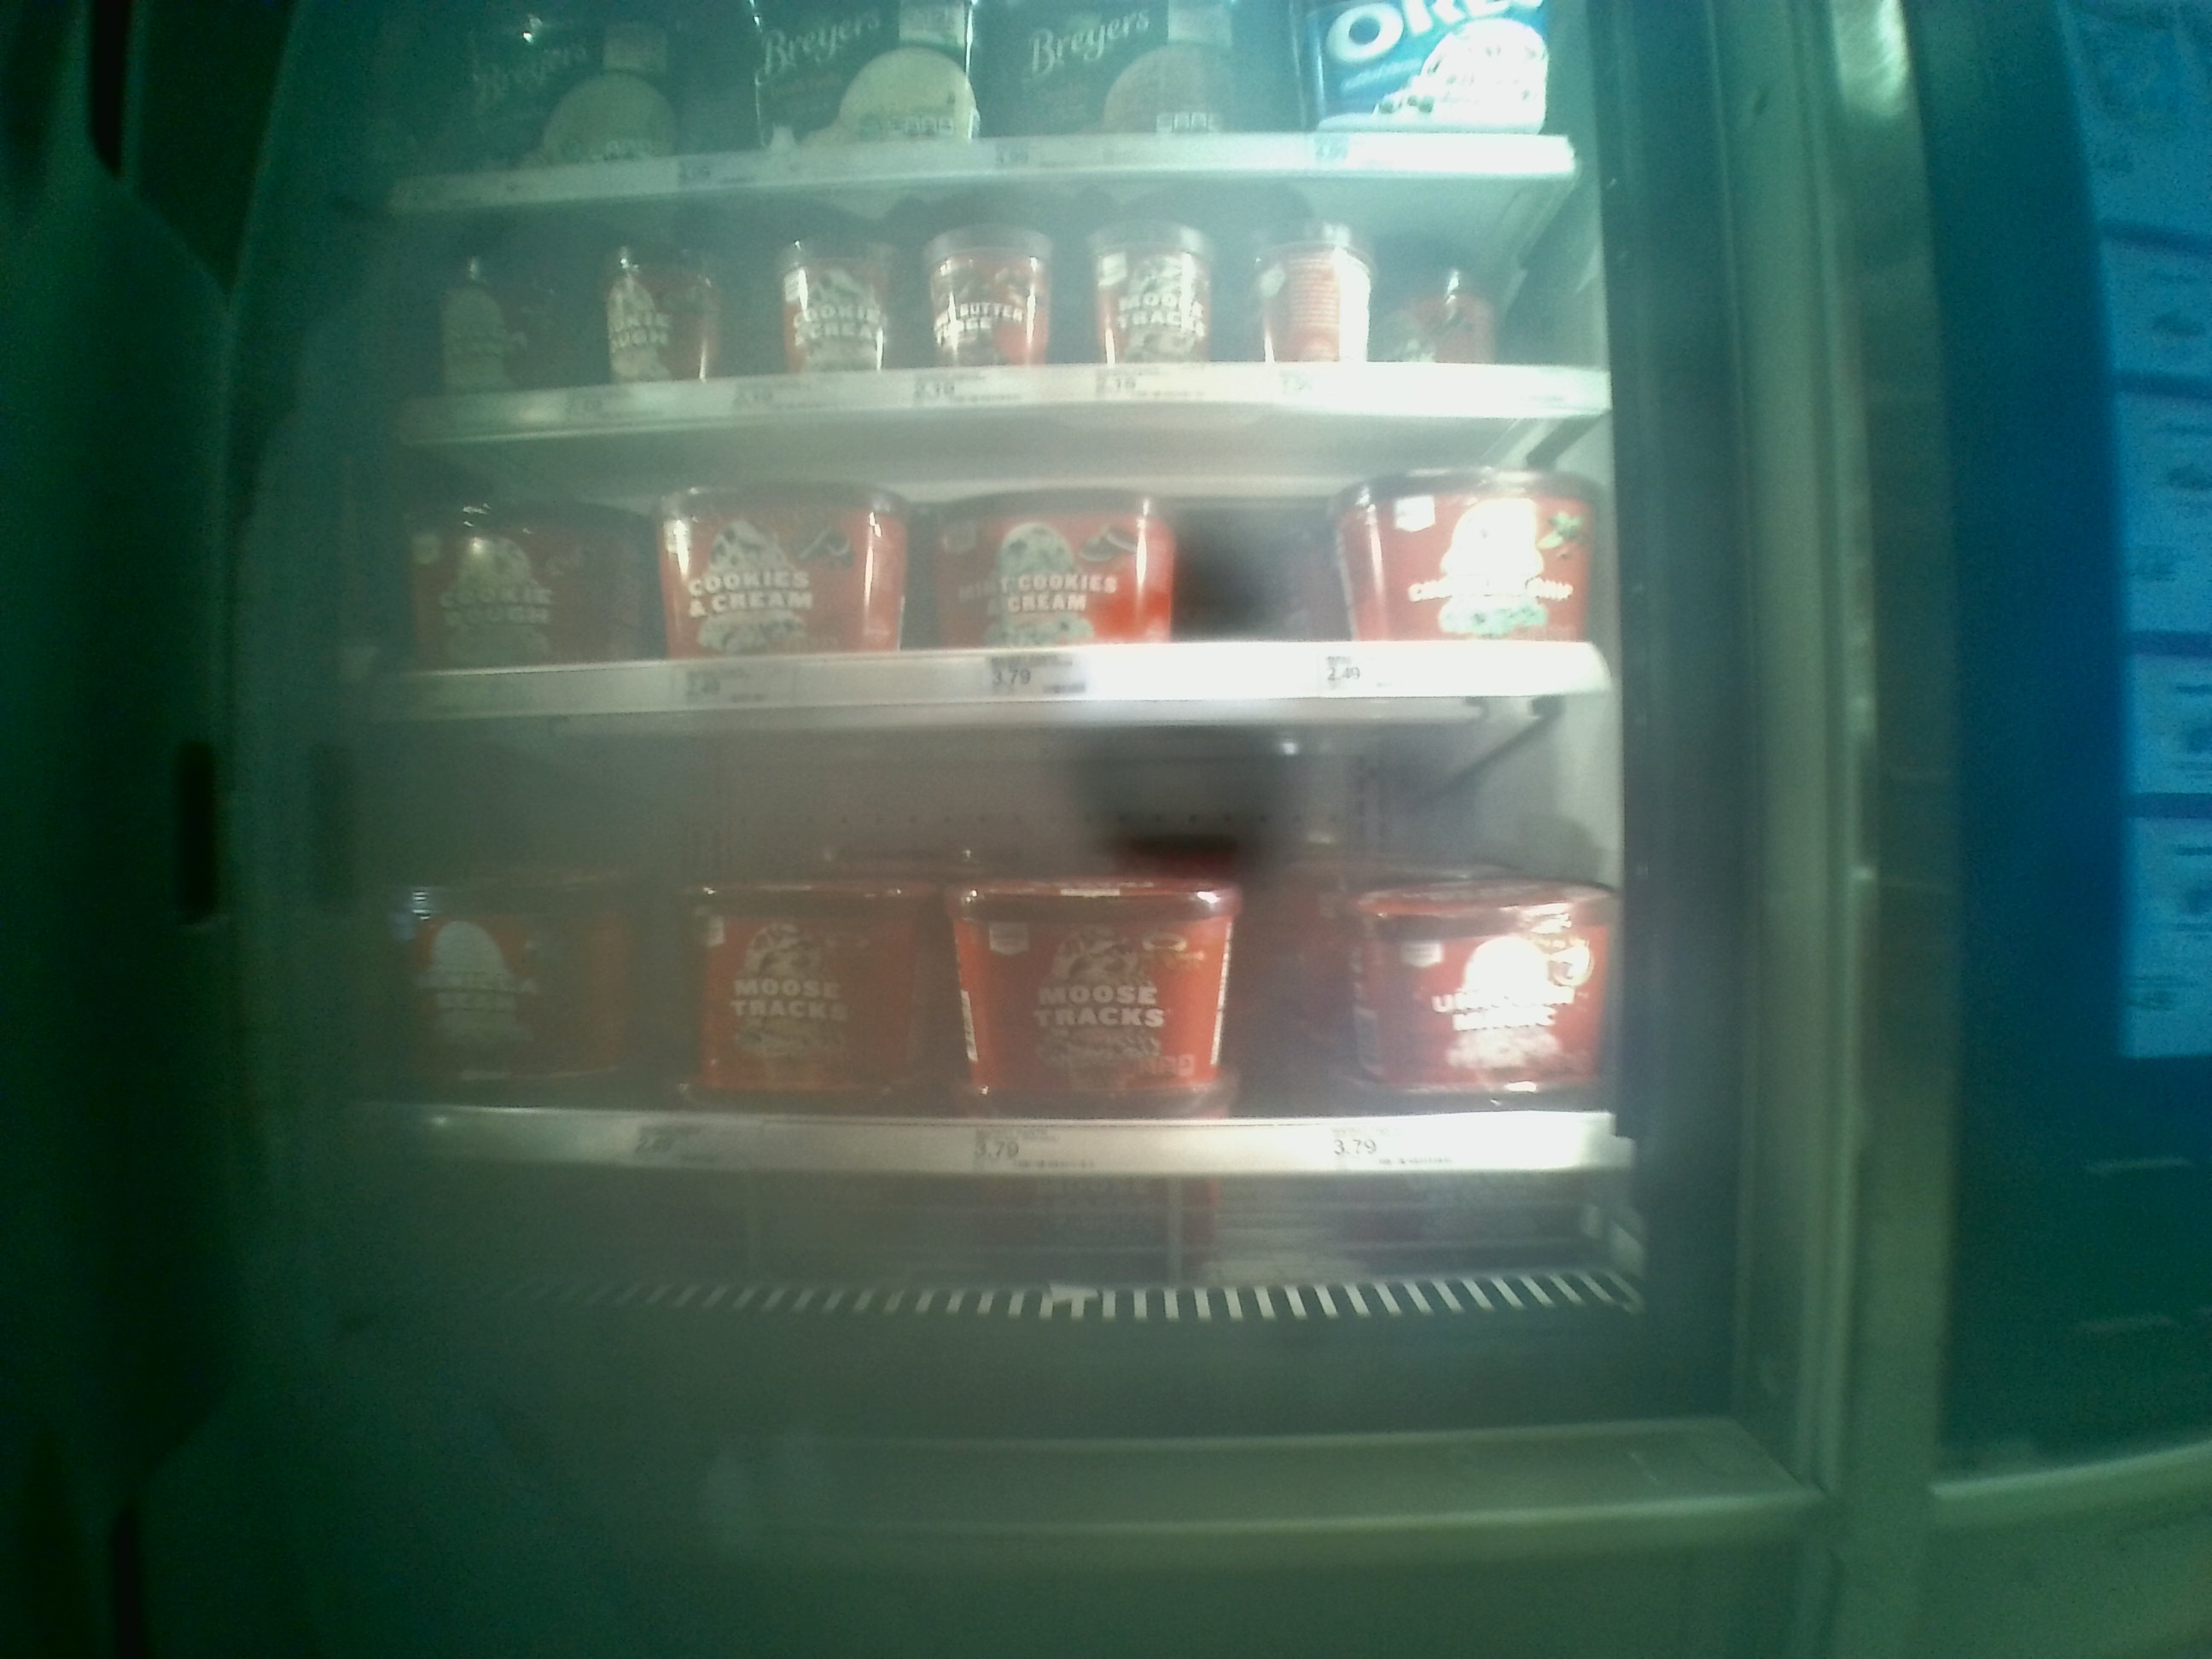ice-cream-shelf: (359, 744, 1620, 1201), (364, 460, 1602, 723)
